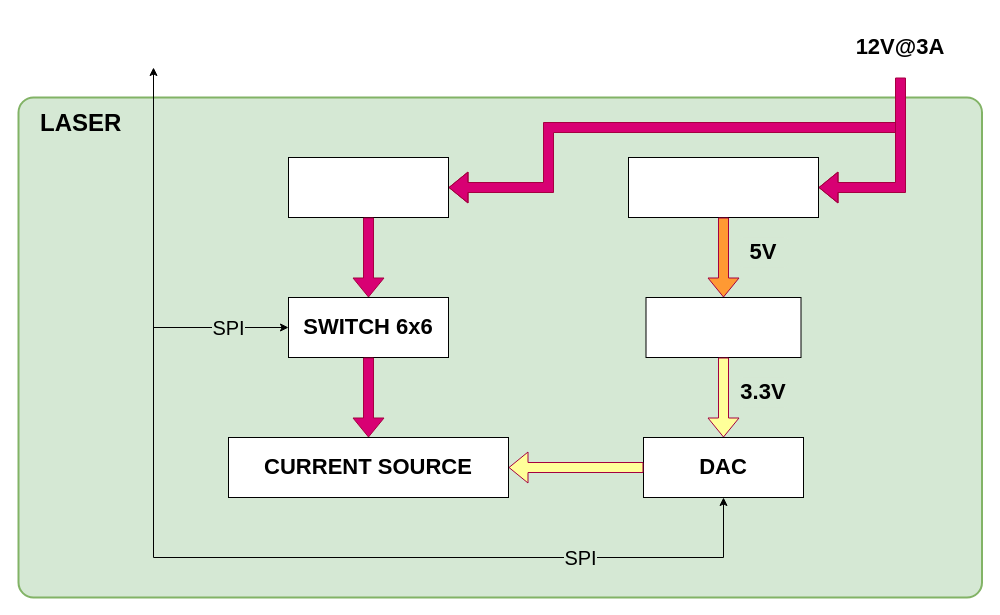
This 1000x615 diagram has some shape labels left out. The centre of each missing label's shape, as x and y in pixels:
BUCK: point 723,187
LASER 6x6: point 368,187
LDO: point 723,327
